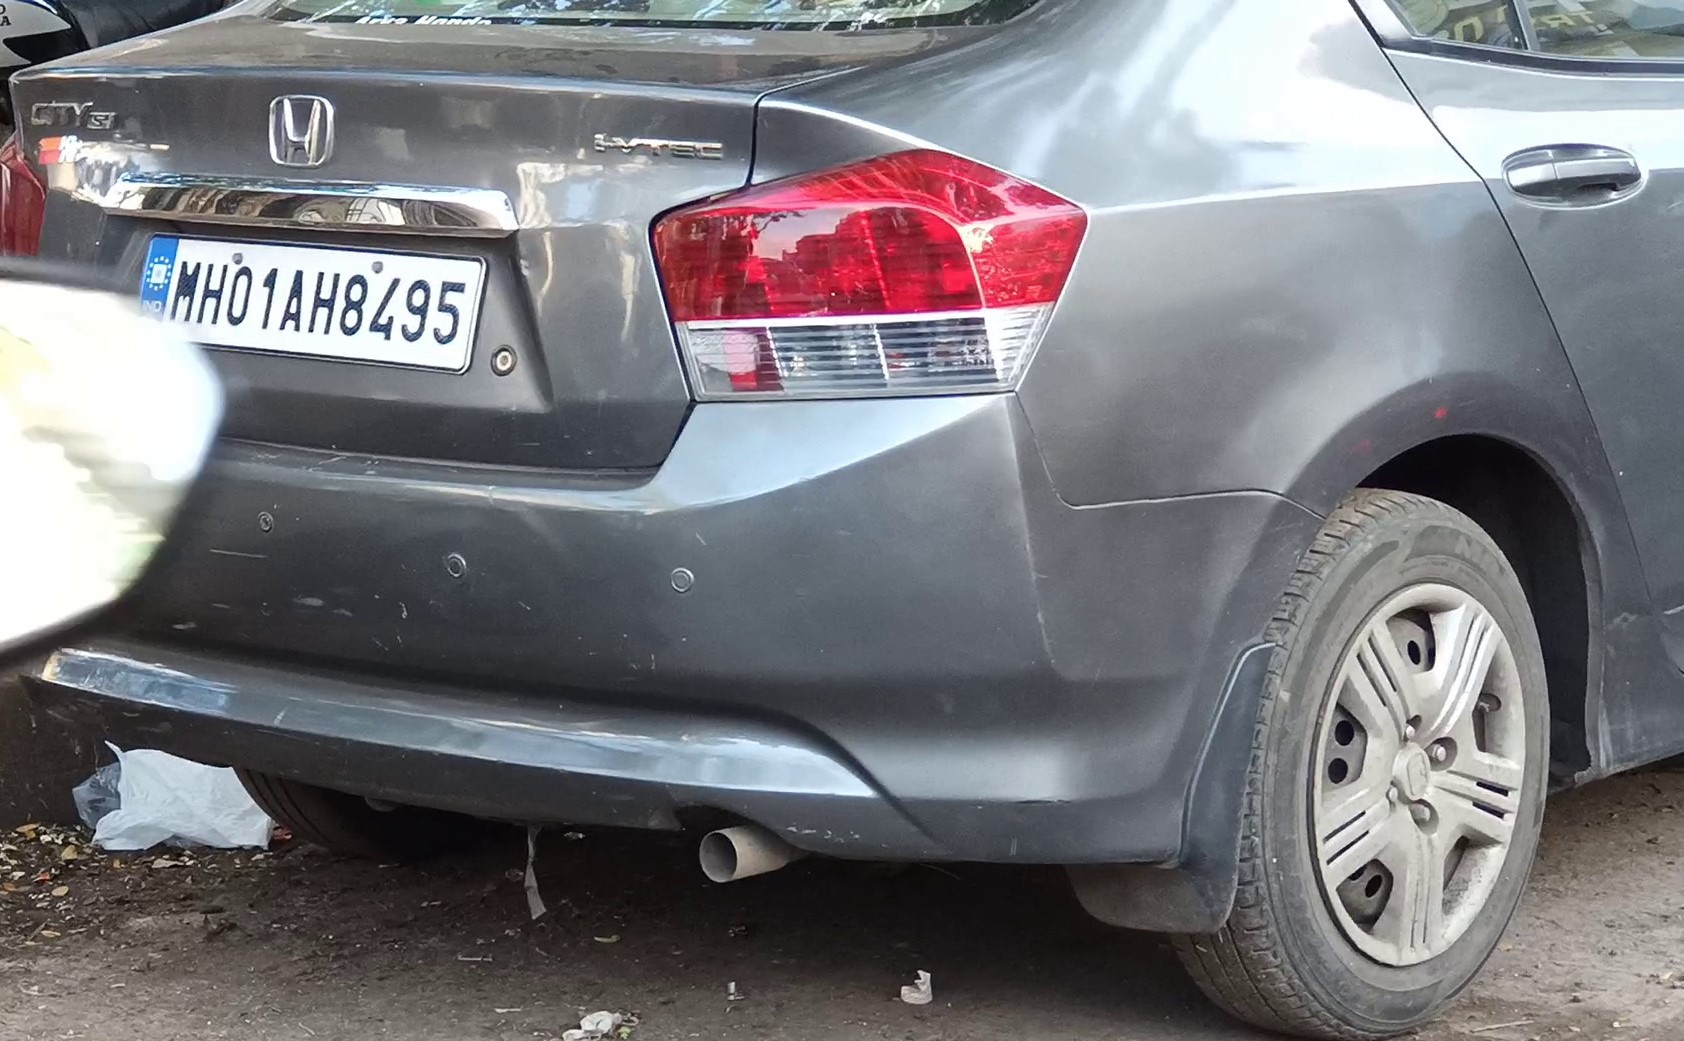MH01AH8495: (143, 236, 484, 375)
